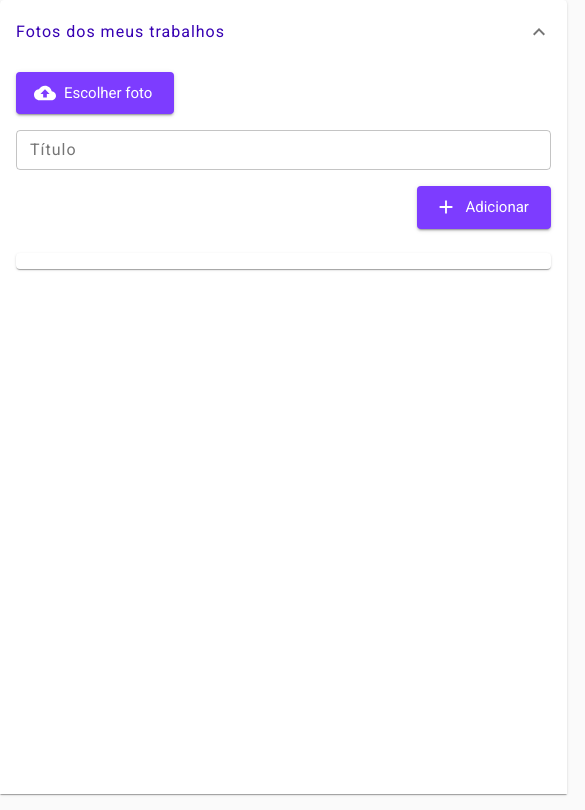
Test case: should show errors on form submit
Click the button "Adicionar" at coordinates (484, 207), box [417,186,551,229]
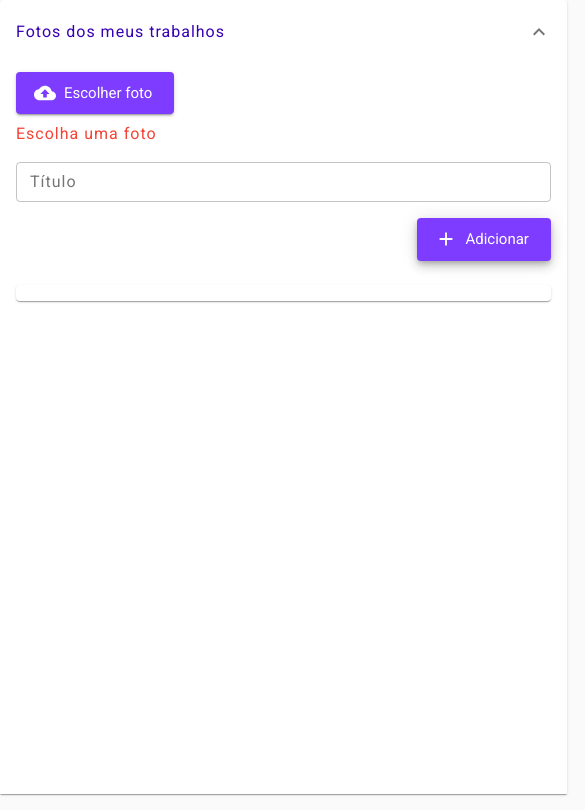
Expected: the text "Escolha uma foto" is shown, [16,124,157,143]
